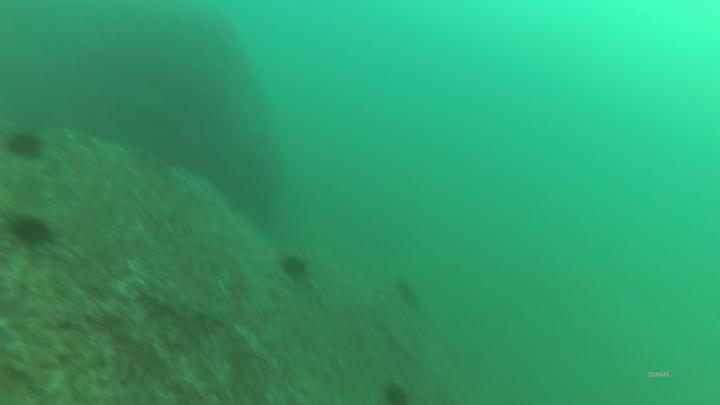echinus: (5, 213, 57, 252), (3, 127, 44, 163), (282, 253, 312, 285), (395, 280, 422, 313), (381, 378, 412, 405)
